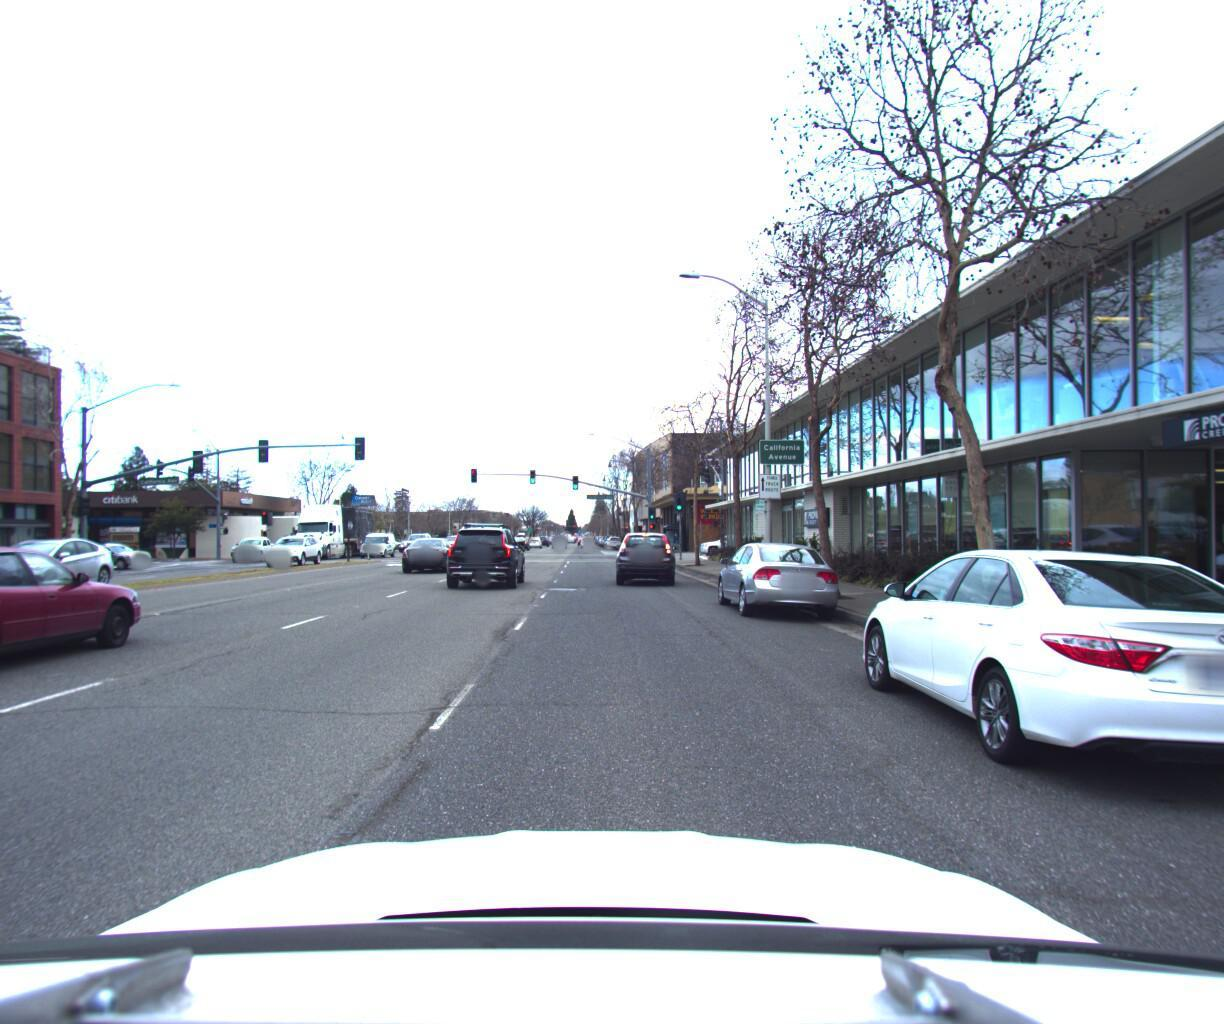car: (845, 535, 1224, 834), (0, 531, 158, 703), (708, 532, 849, 621), (0, 528, 128, 591), (444, 513, 530, 582), (613, 522, 675, 580), (391, 529, 463, 568), (260, 529, 328, 563), (228, 528, 286, 555), (0, 538, 30, 590), (693, 525, 755, 548), (361, 524, 400, 552)
truck: (282, 490, 391, 557)
